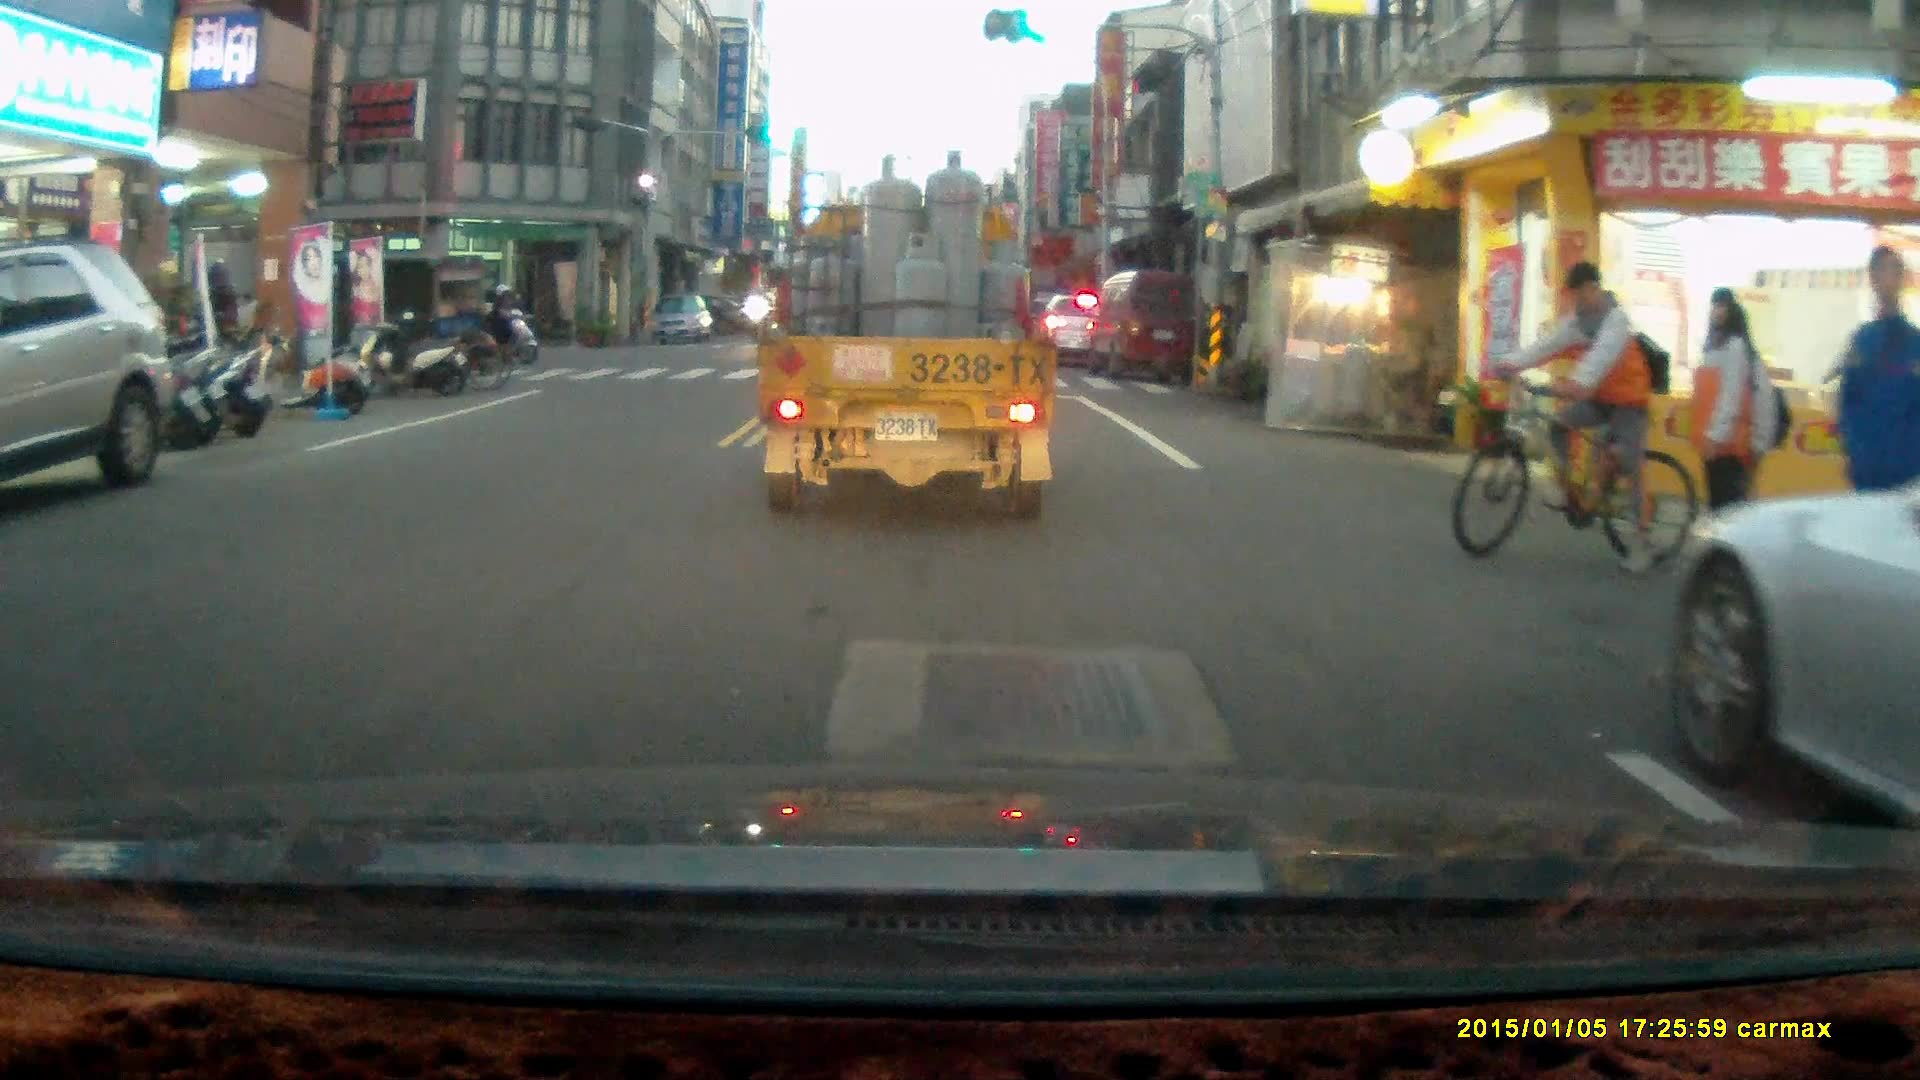pedestrian: (1835, 246, 1920, 585), (1684, 285, 1753, 578), (204, 262, 240, 372)
rider: (1451, 263, 1695, 576), (466, 282, 533, 369)
vehicle: (753, 161, 1042, 520), (1663, 466, 1920, 829), (1, 241, 180, 504), (332, 247, 493, 366), (1088, 268, 1206, 385), (1039, 293, 1107, 365), (648, 293, 716, 350)
